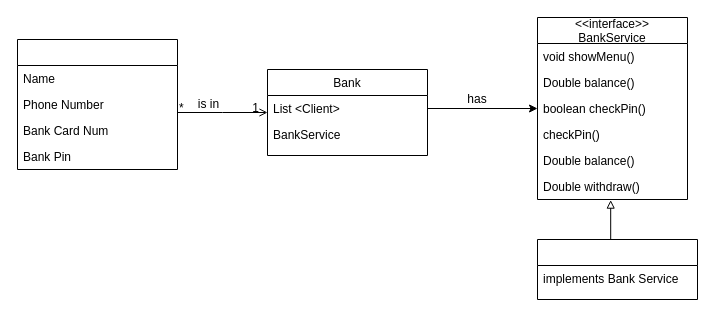
Some shapes in this 715 by 317 pixel diagram are drawn without their labels. Here are the shapes that lost their labels. From the top down, the box of each, then its label:
(16, 38, 178, 170): Client
(536, 238, 698, 300): ATM
